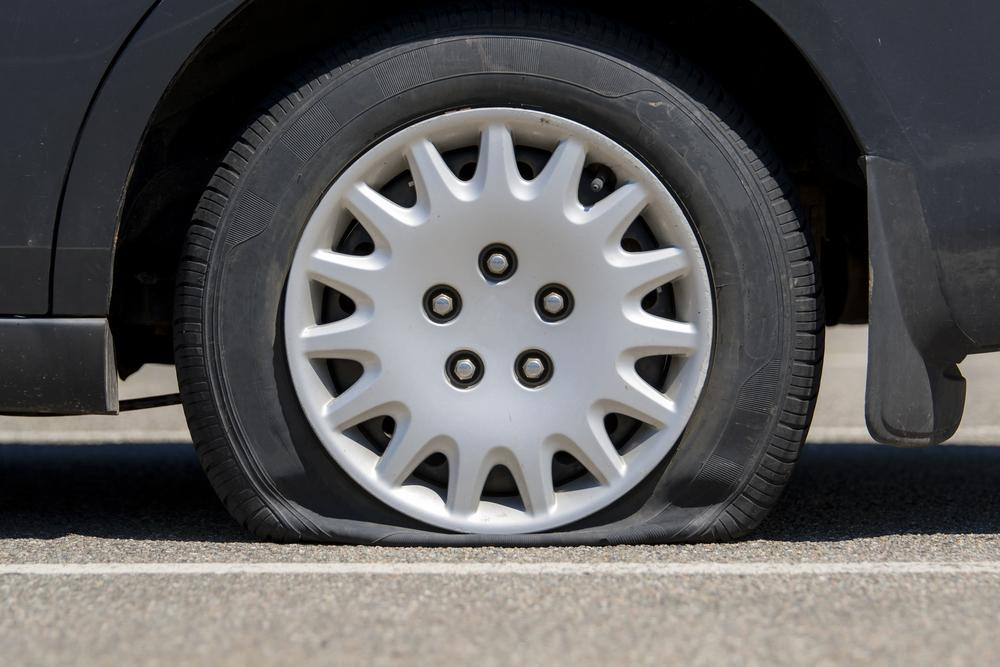tire flat: (170, 0, 829, 551)
